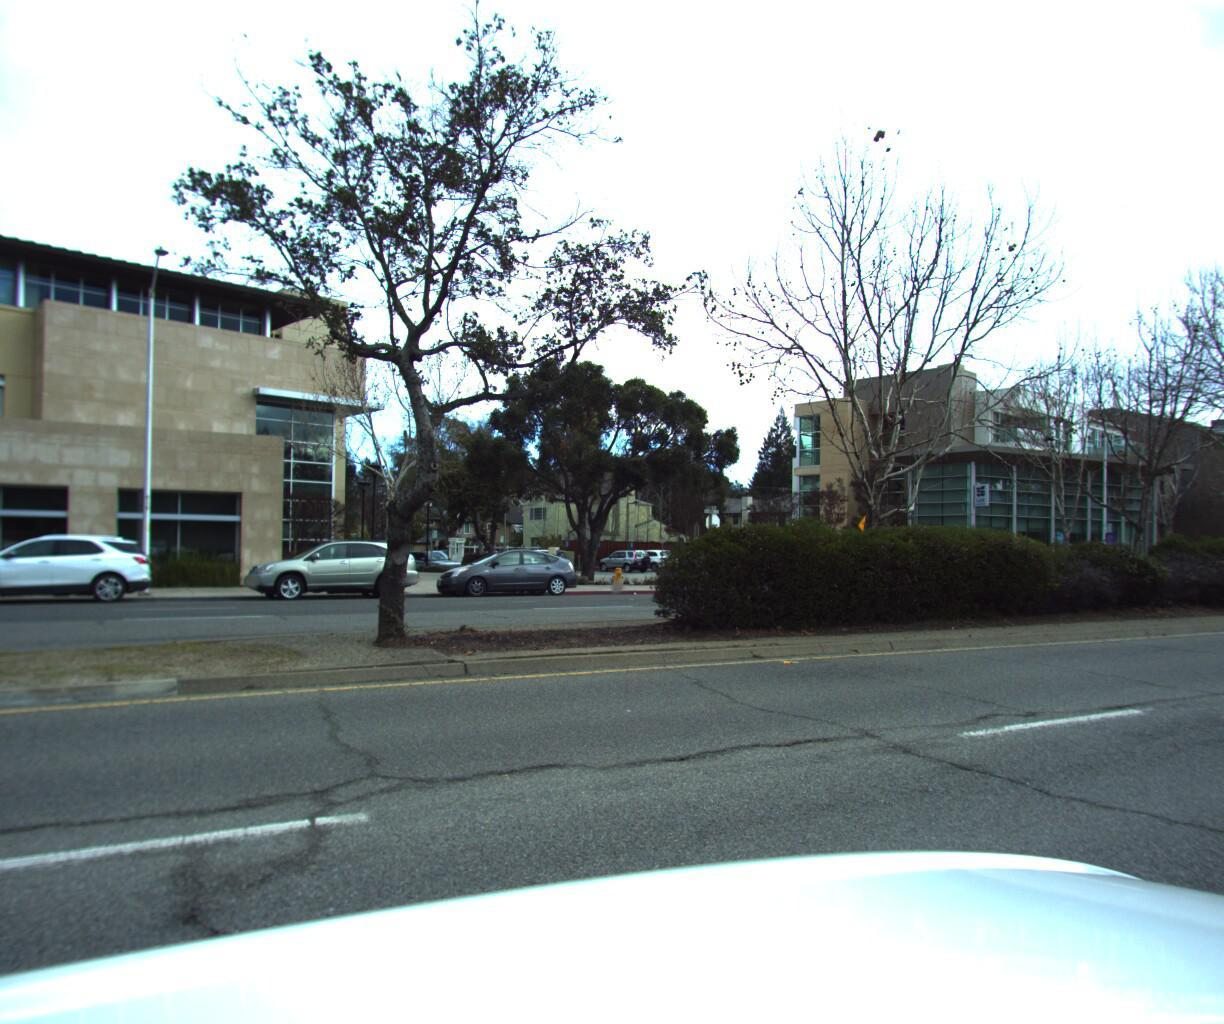car: (237, 535, 423, 603), (0, 530, 152, 612), (426, 546, 579, 600)
